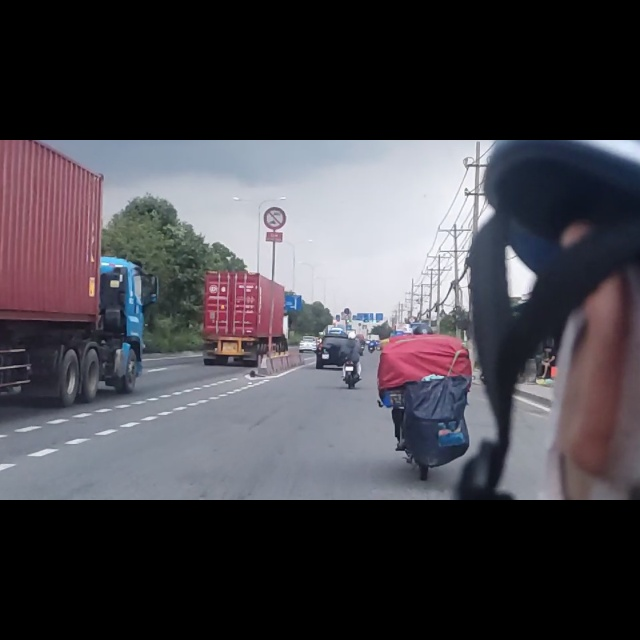bien_hieu_lenh: (263, 120, 287, 160)
